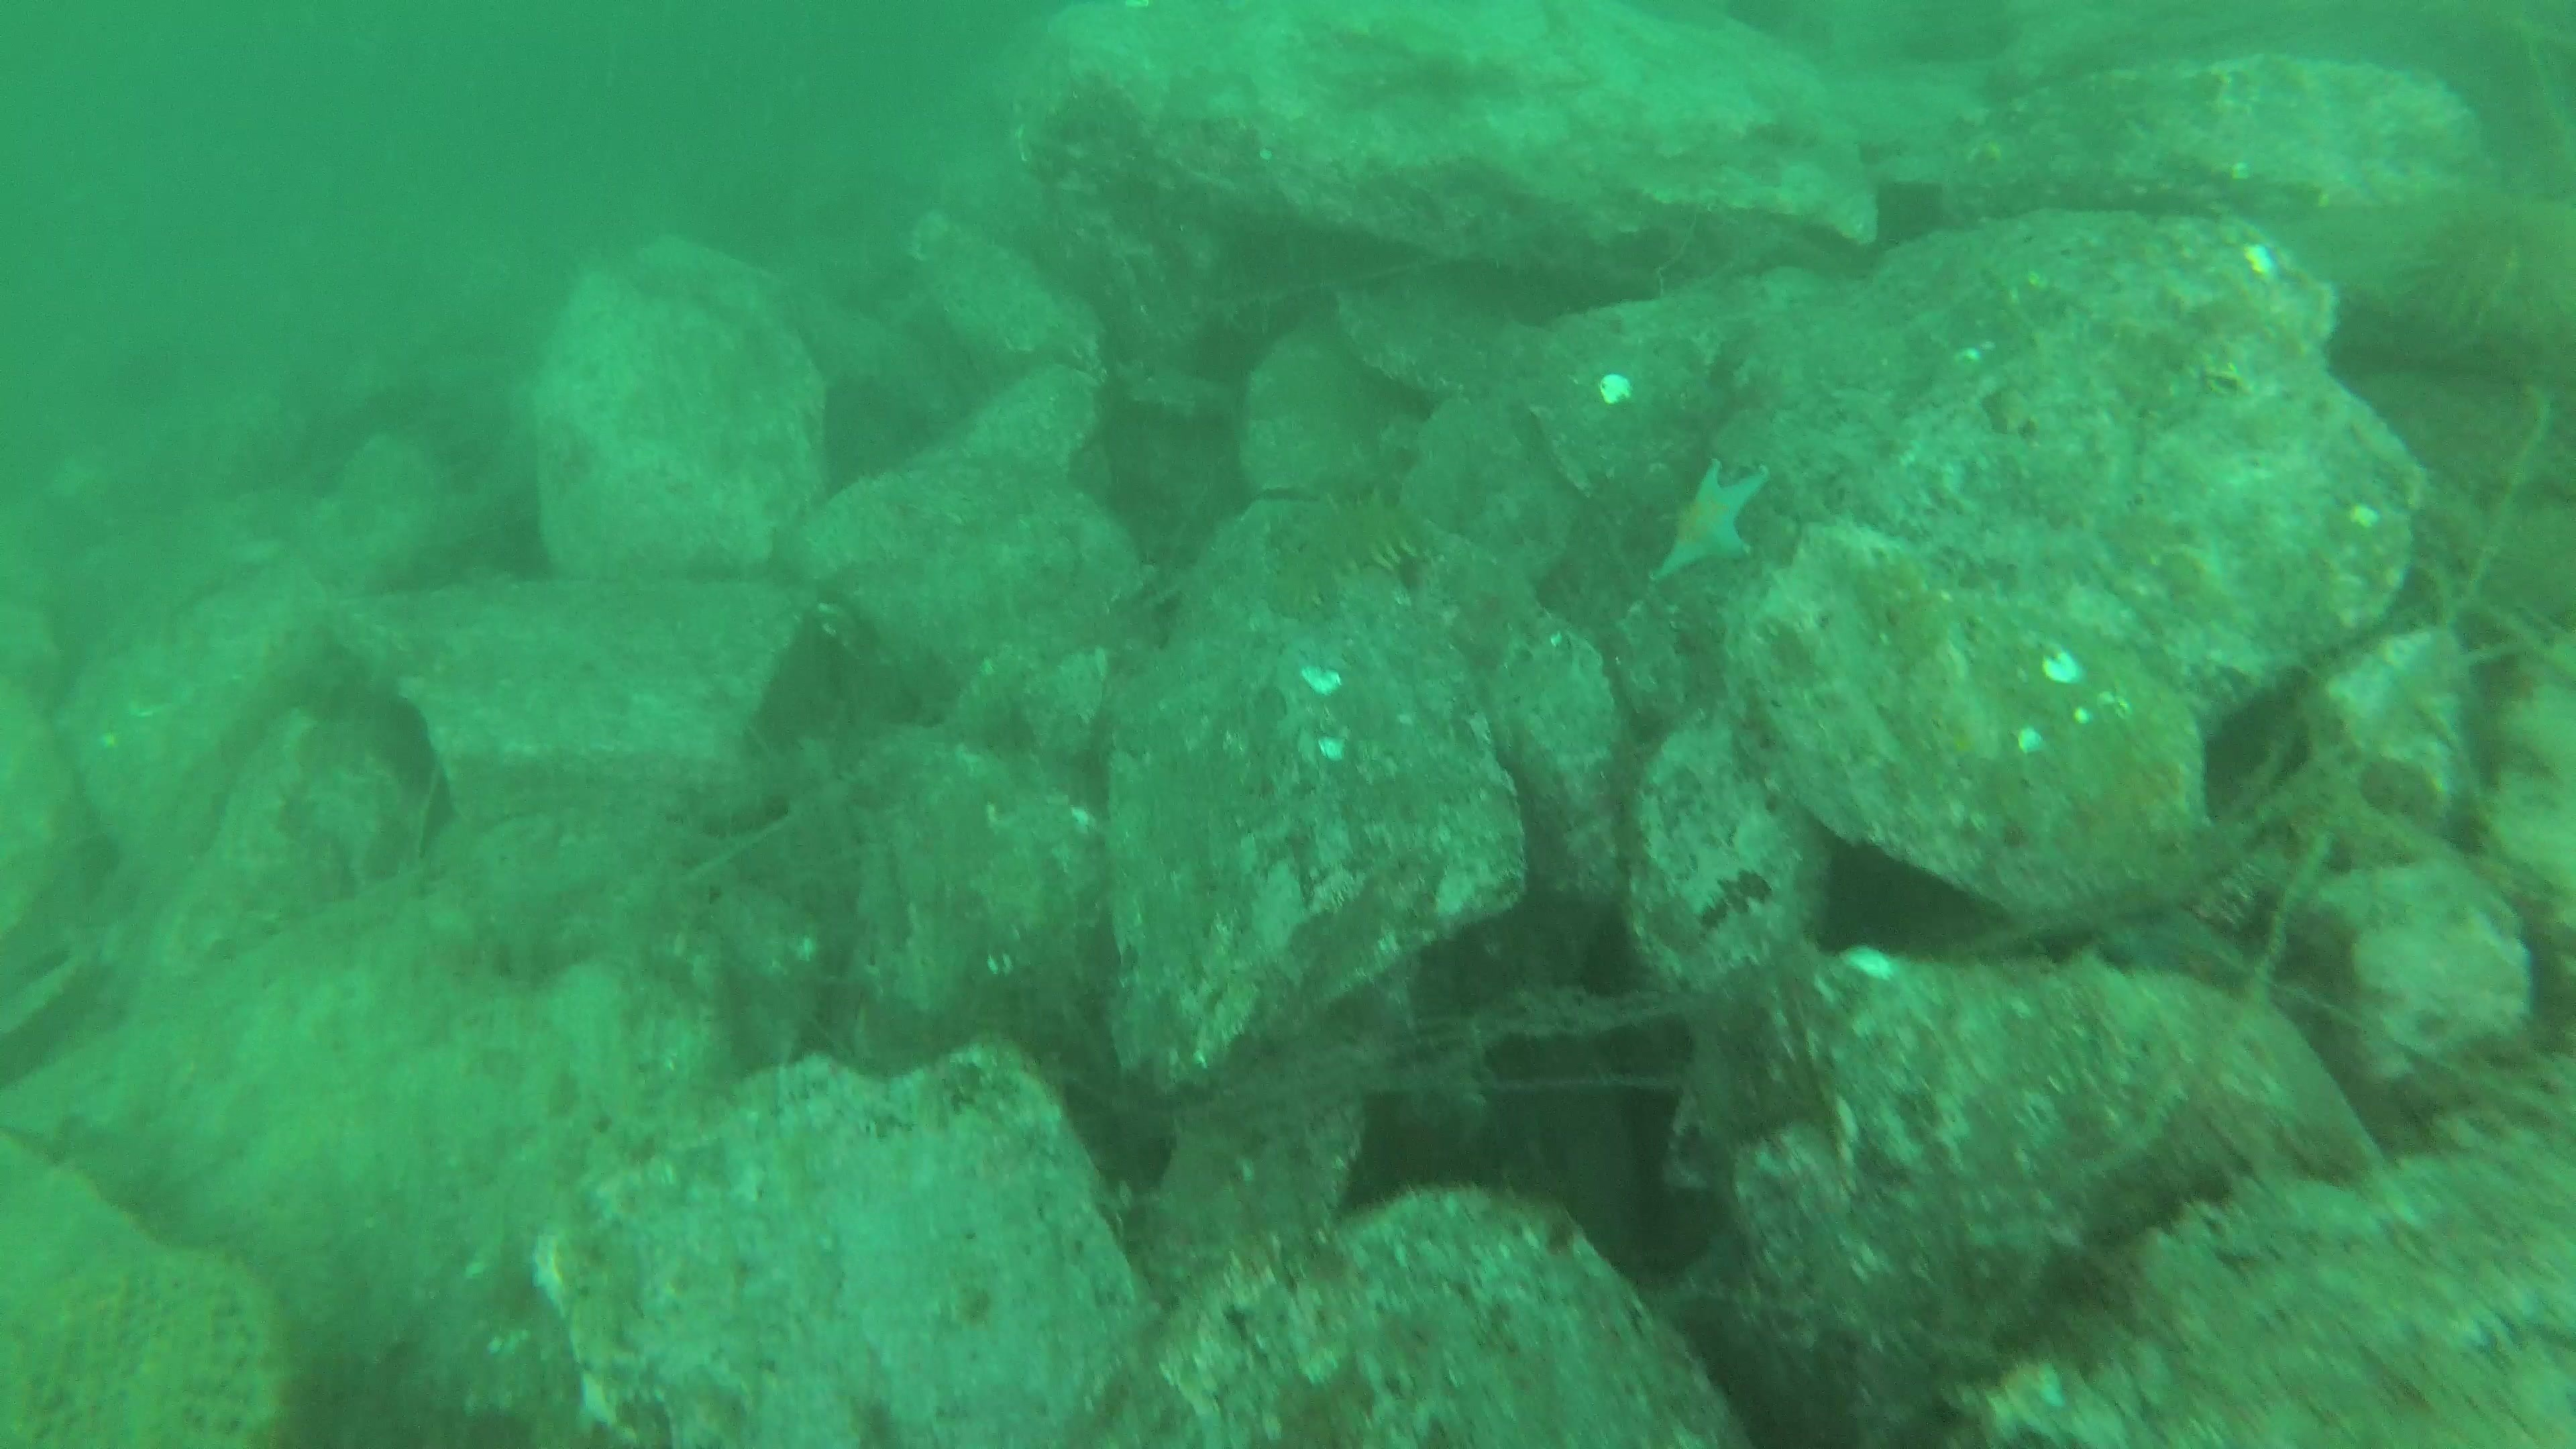echinus: (2394, 184, 2576, 366)
holothurian: (1254, 479, 1440, 625)
starfish: (1645, 453, 1778, 589)
